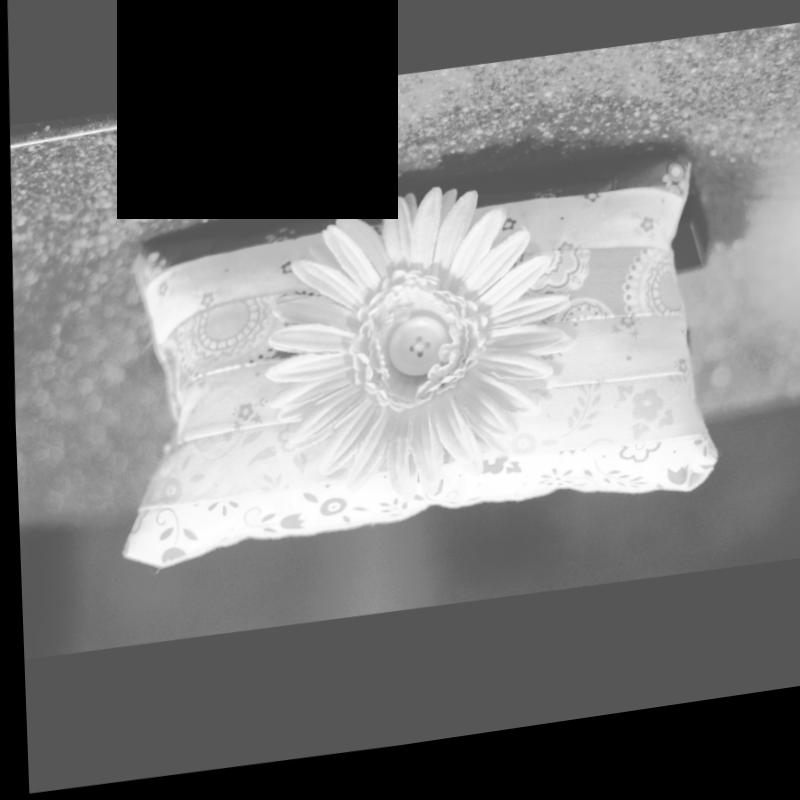pillow: (159, 149, 716, 550)
